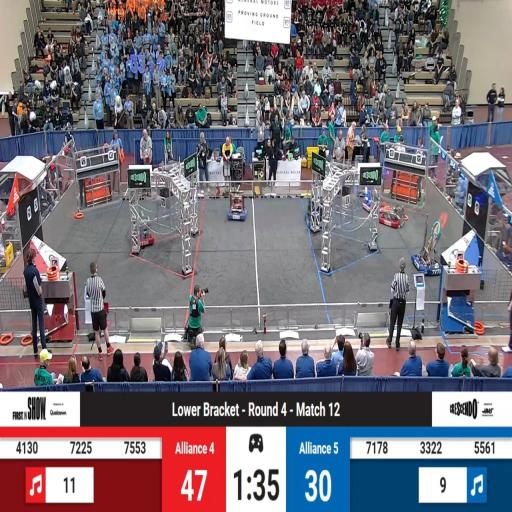robot: (414, 224, 445, 277), (379, 206, 407, 230), (130, 223, 154, 249), (363, 191, 387, 214), (227, 196, 247, 222)
